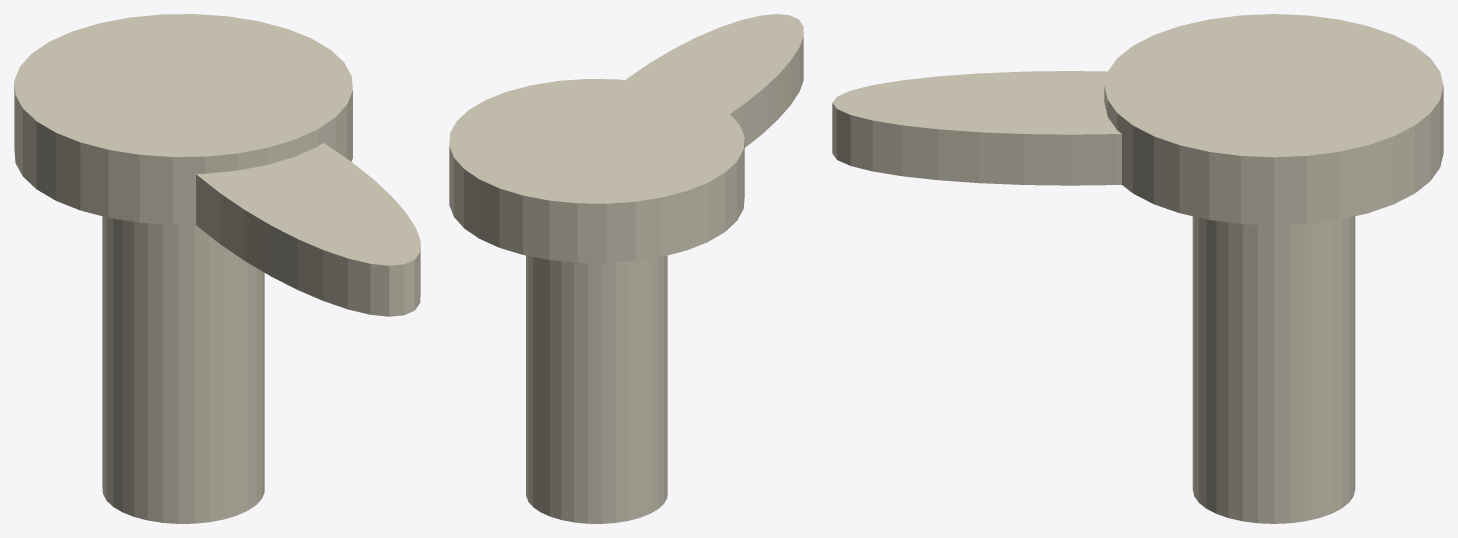
Rendered from Closed2DoorSinkCounter(Handle)V2.fbx.
3 renders of one model, left to right at view 1: azimuth 30°, elevation 25°; view 2: azimuth 150°, elevation 25°; view 3: azimuth 270°, elevation 25°, orthographic. The views are drawn at different scales.
Visible parts, largest first — view 1: Switch; view 2: Switch; view 3: Switch.
Part boxes in pixels (x1=…): Switch: x1=14, y1=14, x2=420, y2=523; Switch: x1=449, y1=14, x2=803, y2=523; Switch: x1=832, y1=14, x2=1443, y2=523.
Size of the model in its own units: 50.89 by 28.24 by 37.12.
